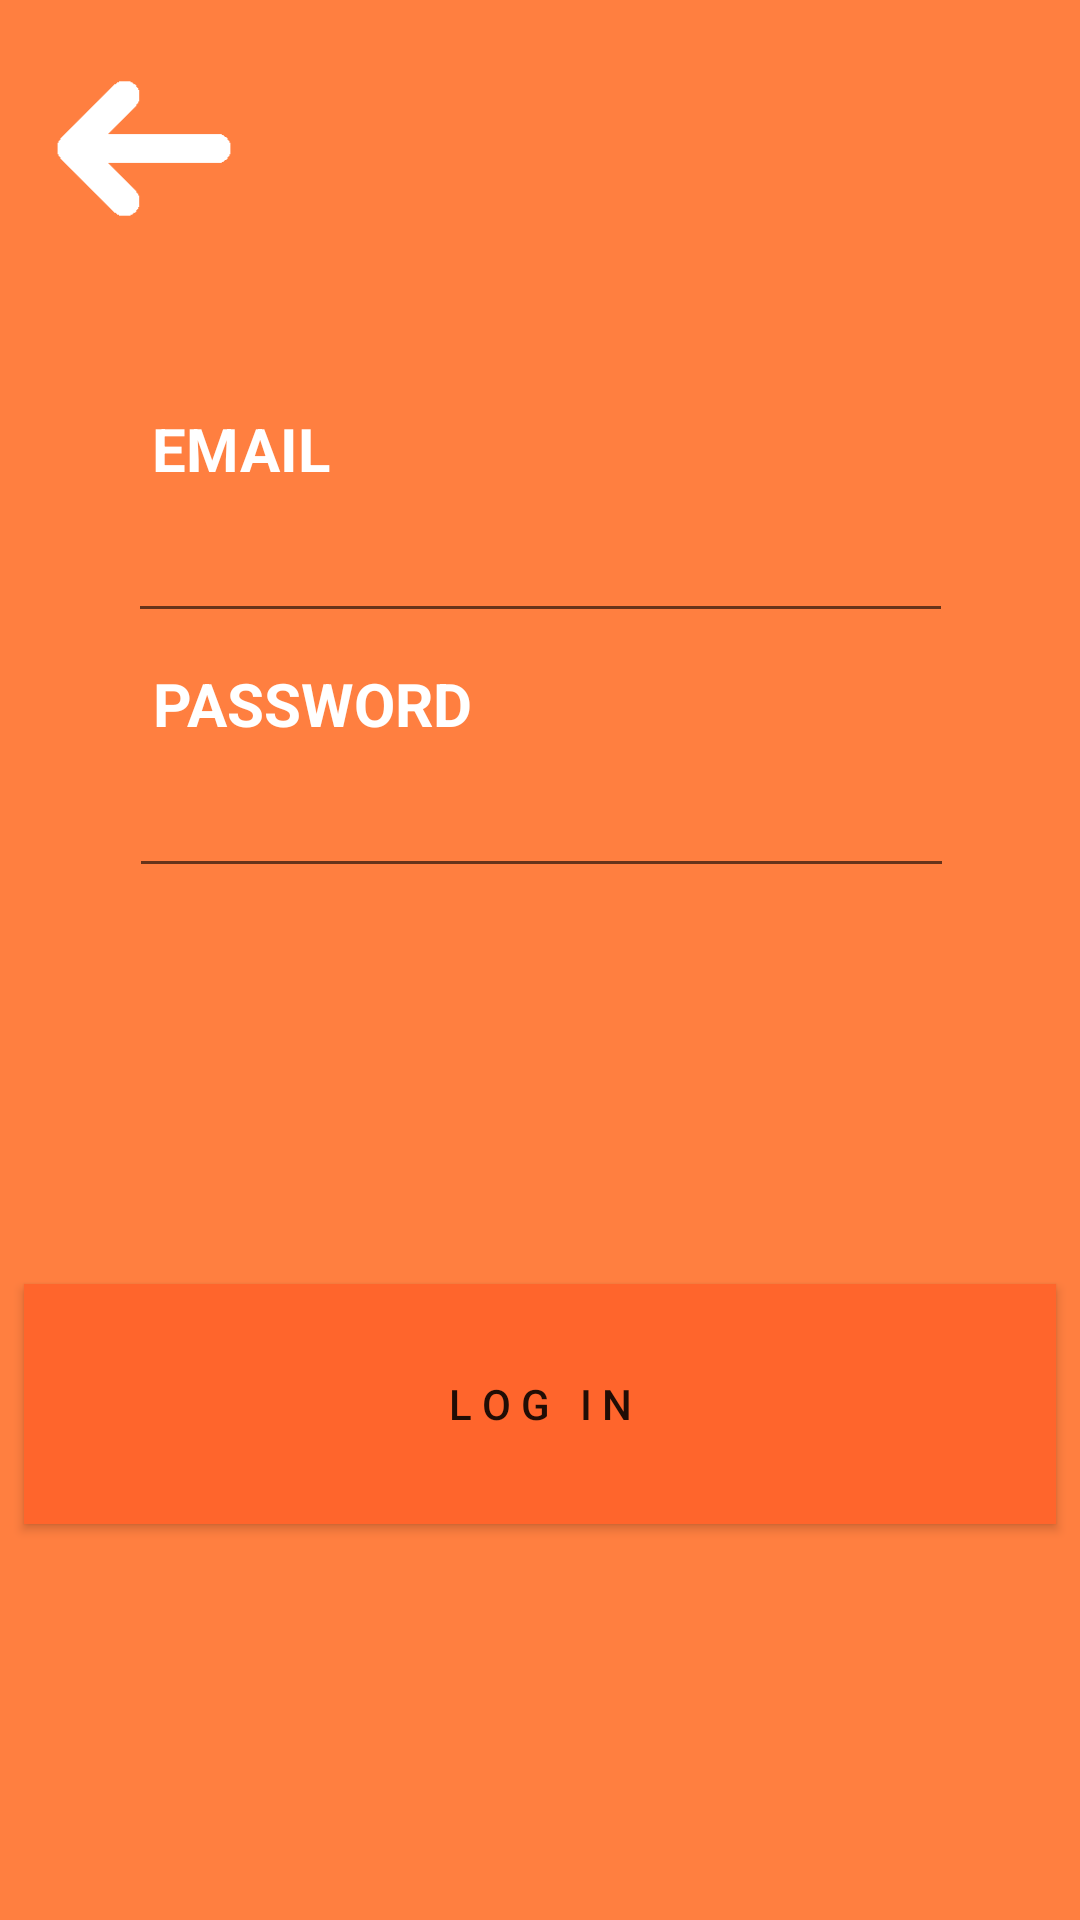

Icons on this 1080px×1920px Android screen, each with its box as (x1, y1, x2, y2):
arrow: (57, 81, 231, 216)
